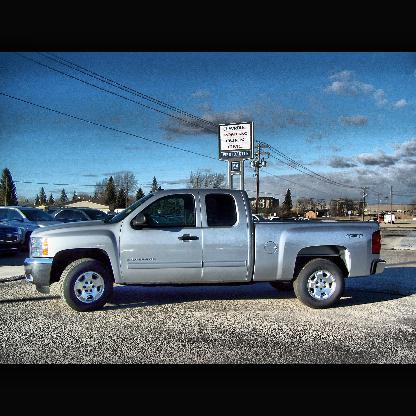Chevrolet Silverado 1500 Extended Cab 2012: (25, 189, 389, 316)
